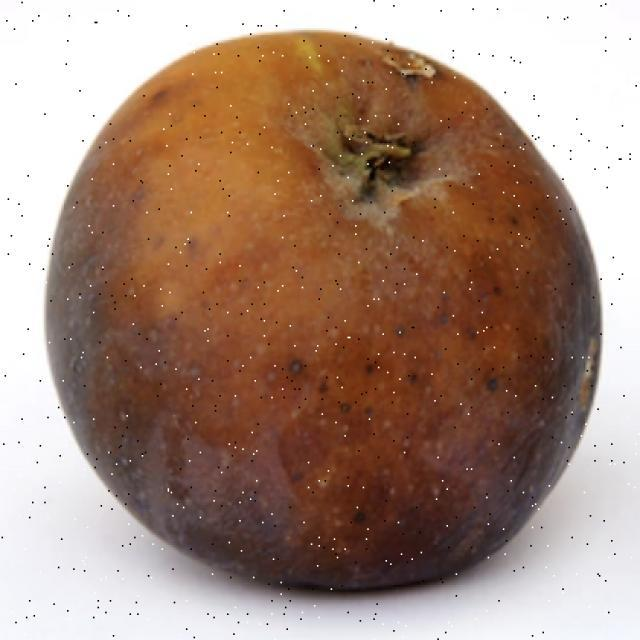Rotten: (63, 40, 607, 612)
